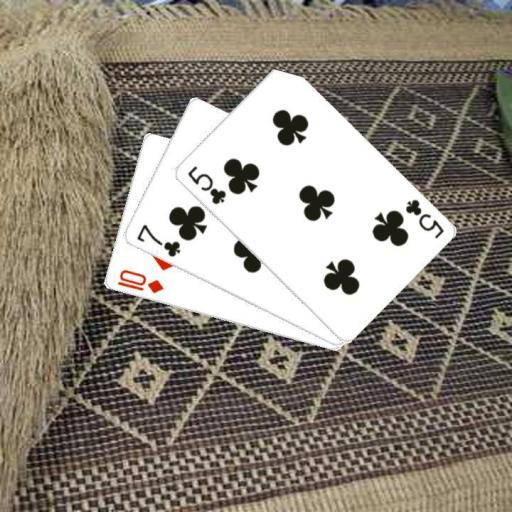10D: (114, 267, 165, 295)
5C: (401, 196, 445, 241), (184, 162, 228, 206)
7C: (133, 221, 182, 259)
